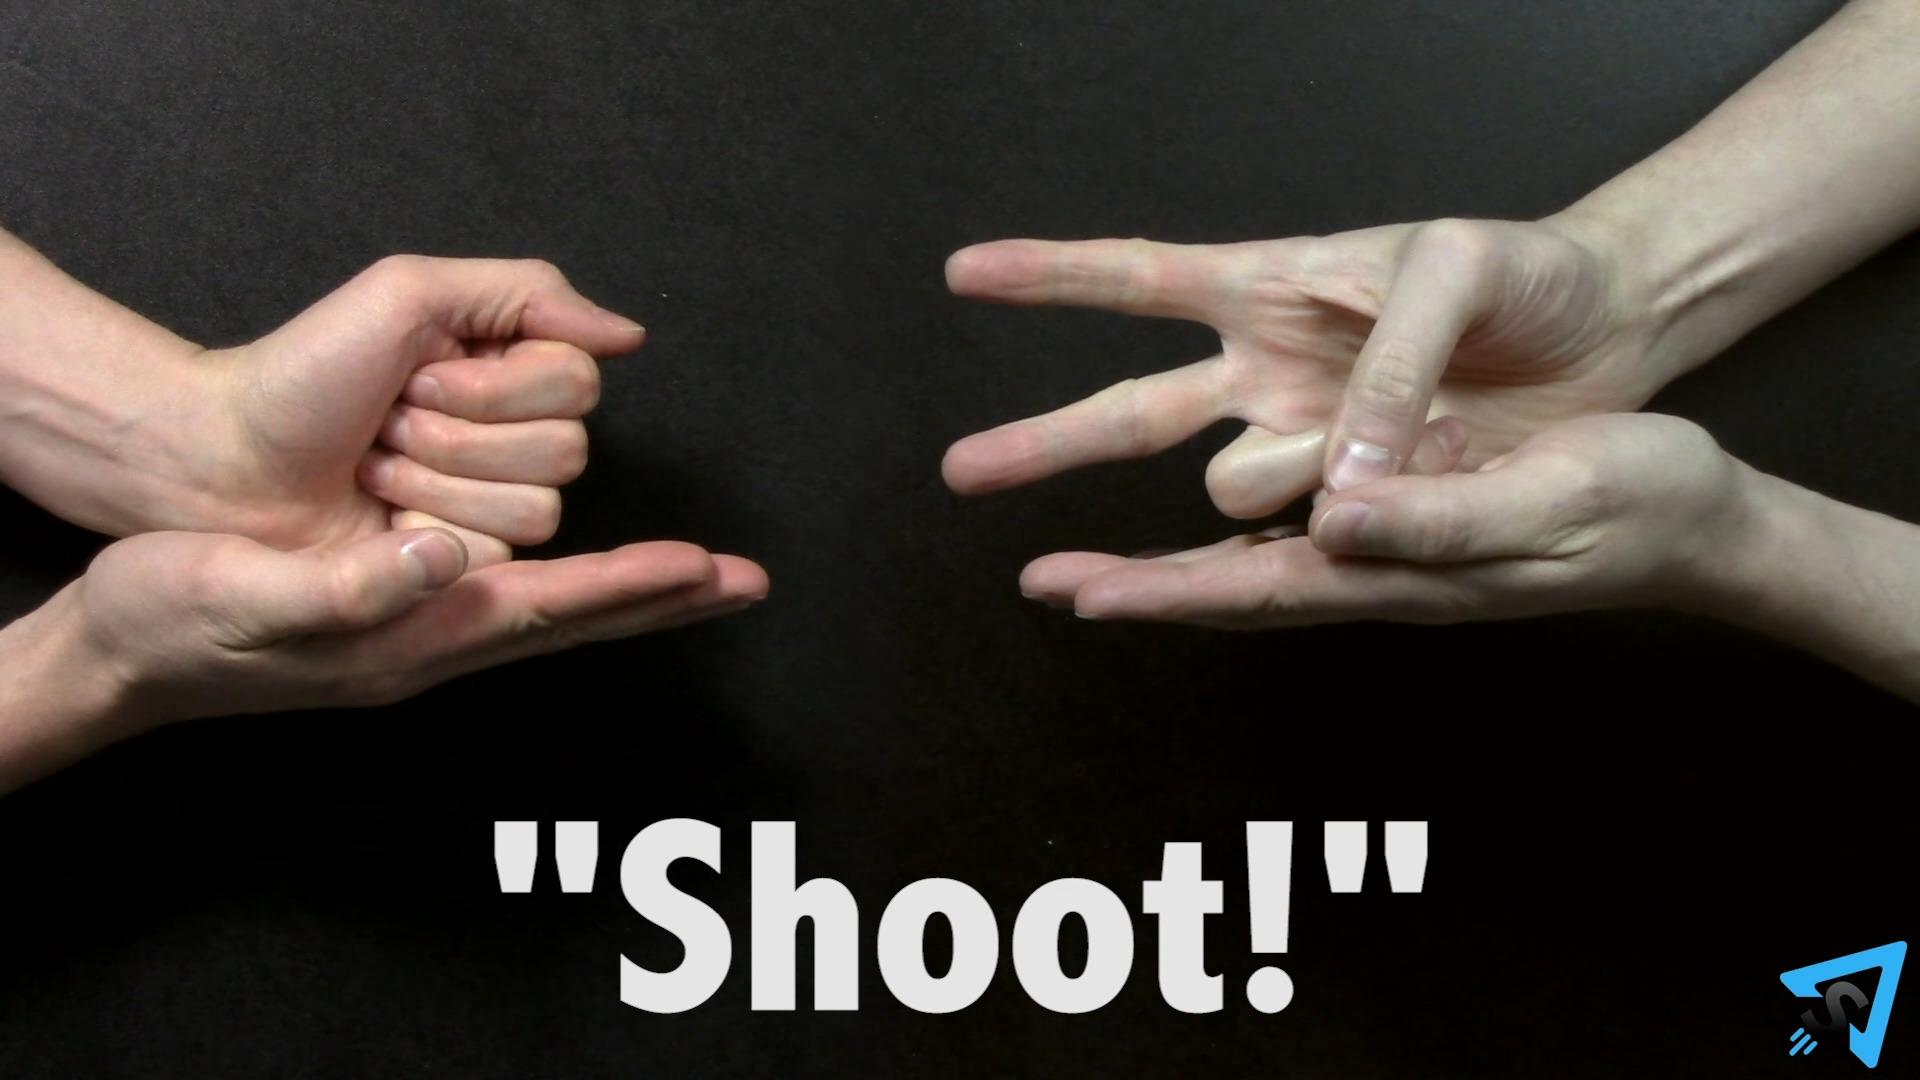Rock: (185, 250, 649, 572)
Scissors: (940, 210, 1635, 542)
